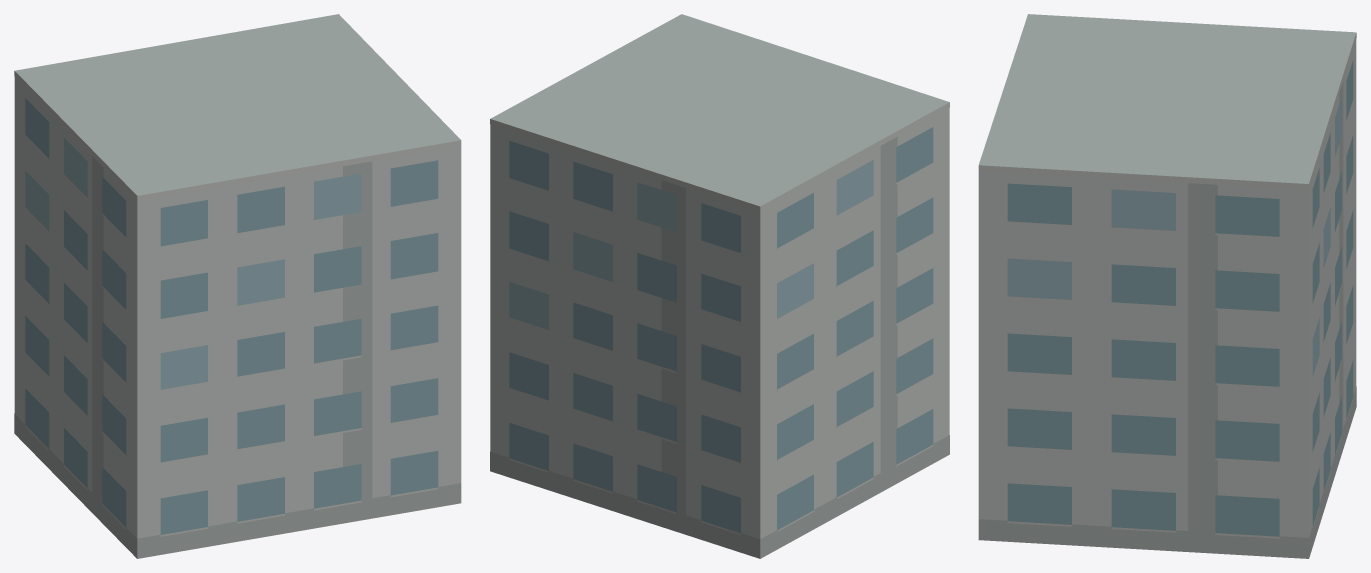
The model's file is survey-upis-32632303.glb.
3 views of the same model, side by side, from view 1: azimuth 30°, elevation 25°; view 2: azimuth 150°, elevation 25°; view 3: azimuth 270°, elevation 25° (orthographic). The views are drawn at different scales.
Visible parts, largest first — view 1: survey-upis-32632303.tmp; view 2: survey-upis-32632303.tmp; view 3: survey-upis-32632303.tmp.
Part boxes in pixels (<box>): survey-upis-32632303.tmp: <box>14,14,461,558</box>; survey-upis-32632303.tmp: <box>490,14,949,558</box>; survey-upis-32632303.tmp: <box>978,14,1356,558</box>.
Size of the model in its own units: 14.85 by 15.25 by 13.94.
